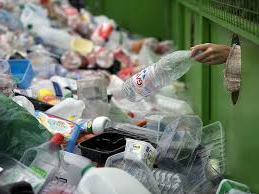plastic water bottle: (122, 45, 200, 104)
